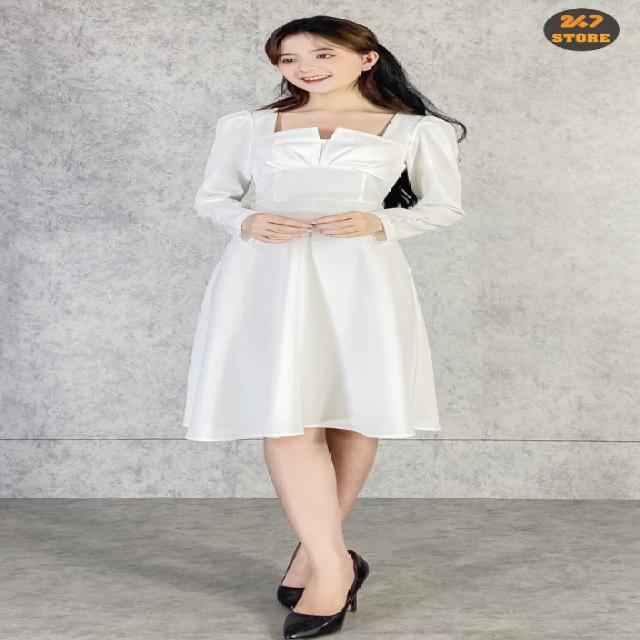clothes: (166, 105, 475, 444)
